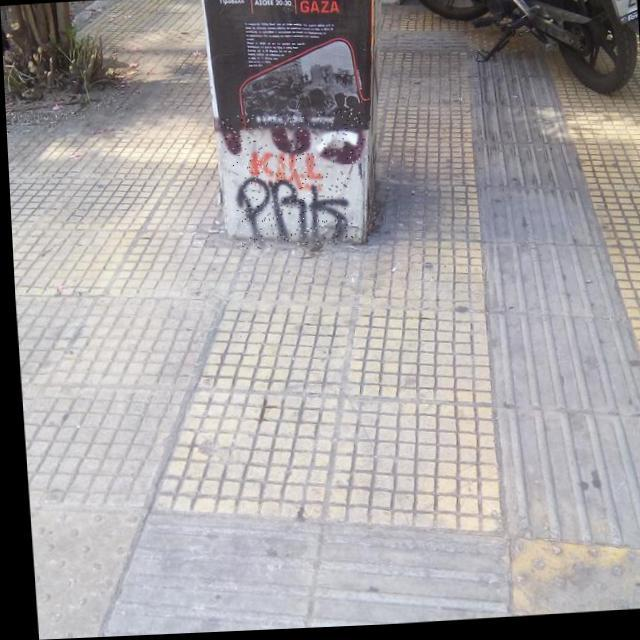-: (212, 110, 366, 173), (232, 172, 351, 252), (246, 148, 324, 197)
